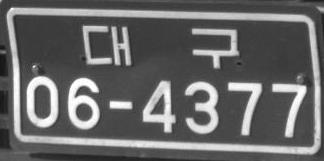0: (25, 73, 59, 128)
3: (183, 79, 219, 135)
4: (141, 79, 175, 133)
6: (66, 75, 100, 130)
7: (270, 80, 307, 138), (226, 80, 262, 136)
대구_D: (81, 24, 242, 71)
